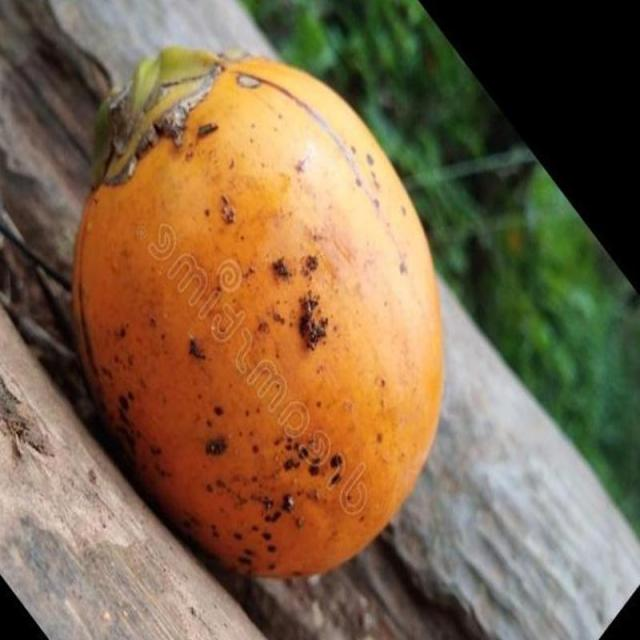good: (65, 44, 447, 593)
